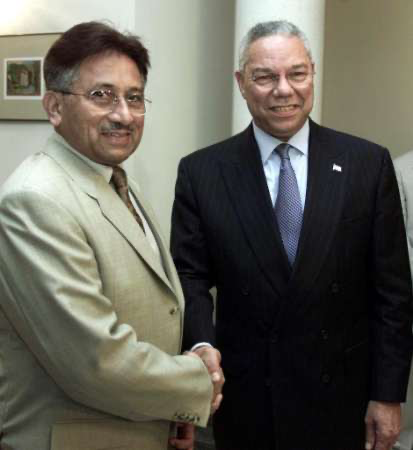Face: (69, 57, 153, 162), (234, 30, 321, 130)
